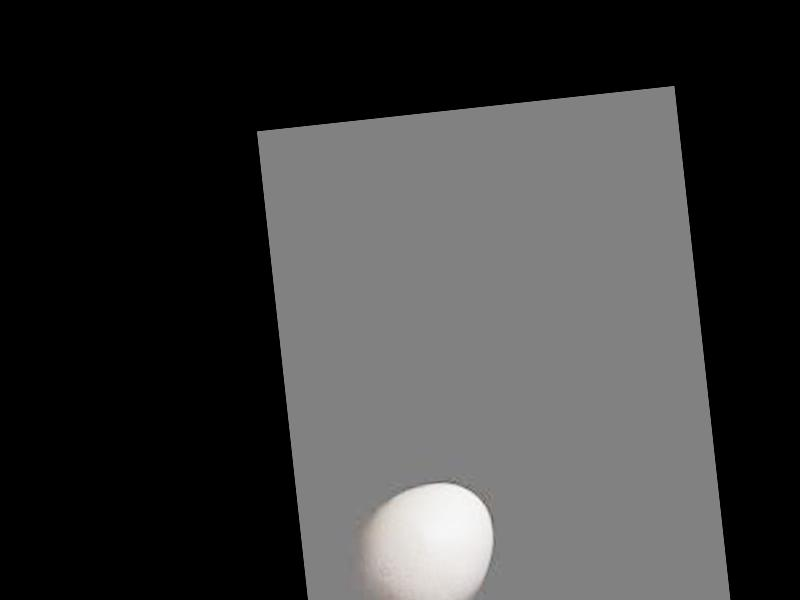Eggs: (350, 478, 503, 600)
